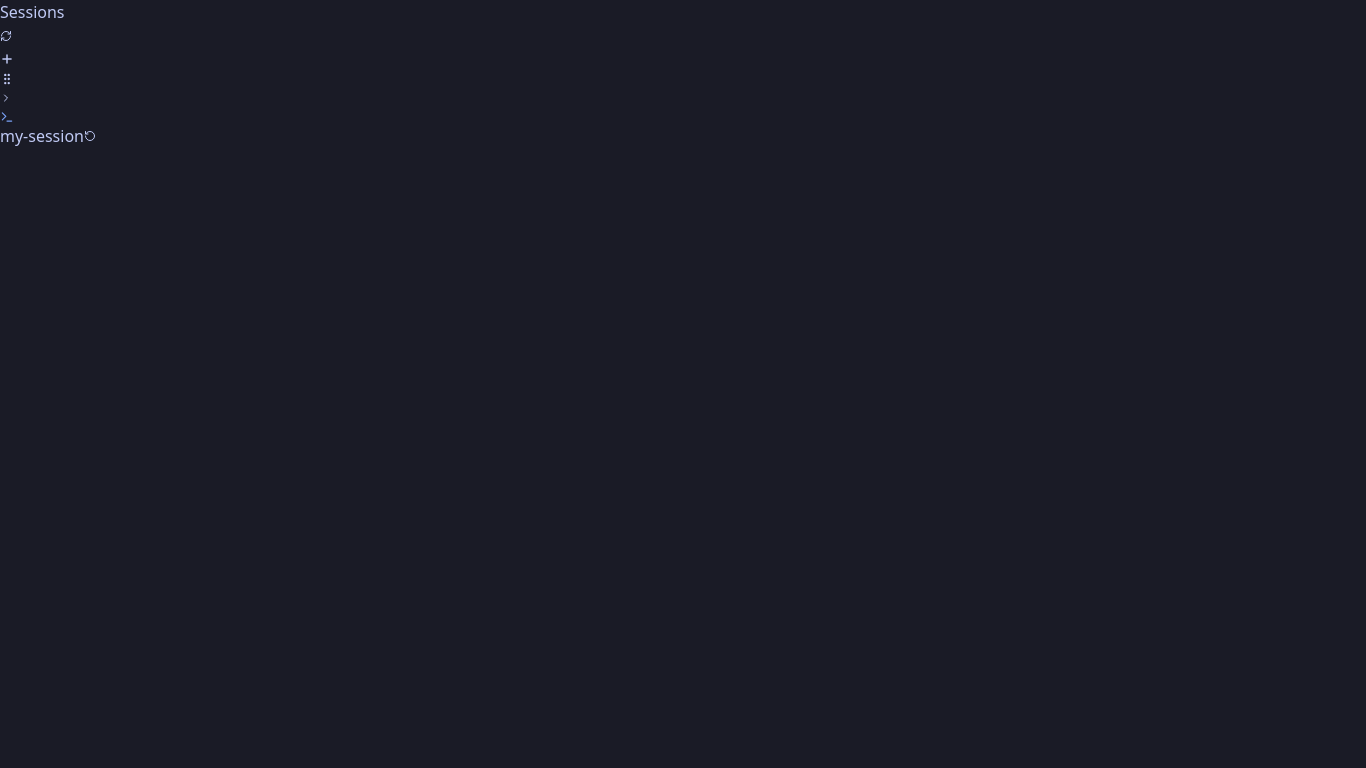
Test case: TmuxTree › shows confirm dialog on rebuild click
Click the button titled "Rebuild session".
click(90, 136)  # box [84, 130, 96, 142]
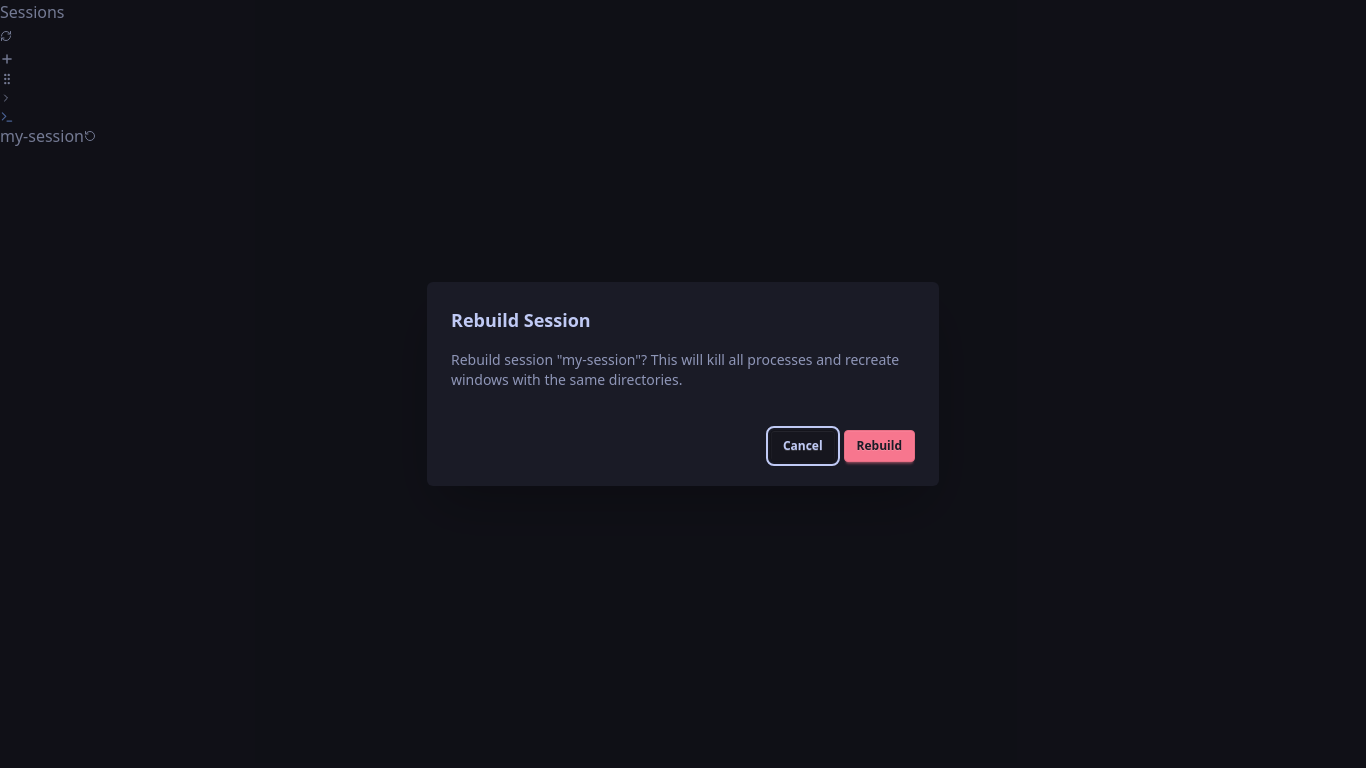
Expected: the heading "Rebuild Session" is shown, [451, 308, 591, 332]
Expected: the text "Rebuild session \"my-session\"" is shown, [451, 350, 899, 389]
